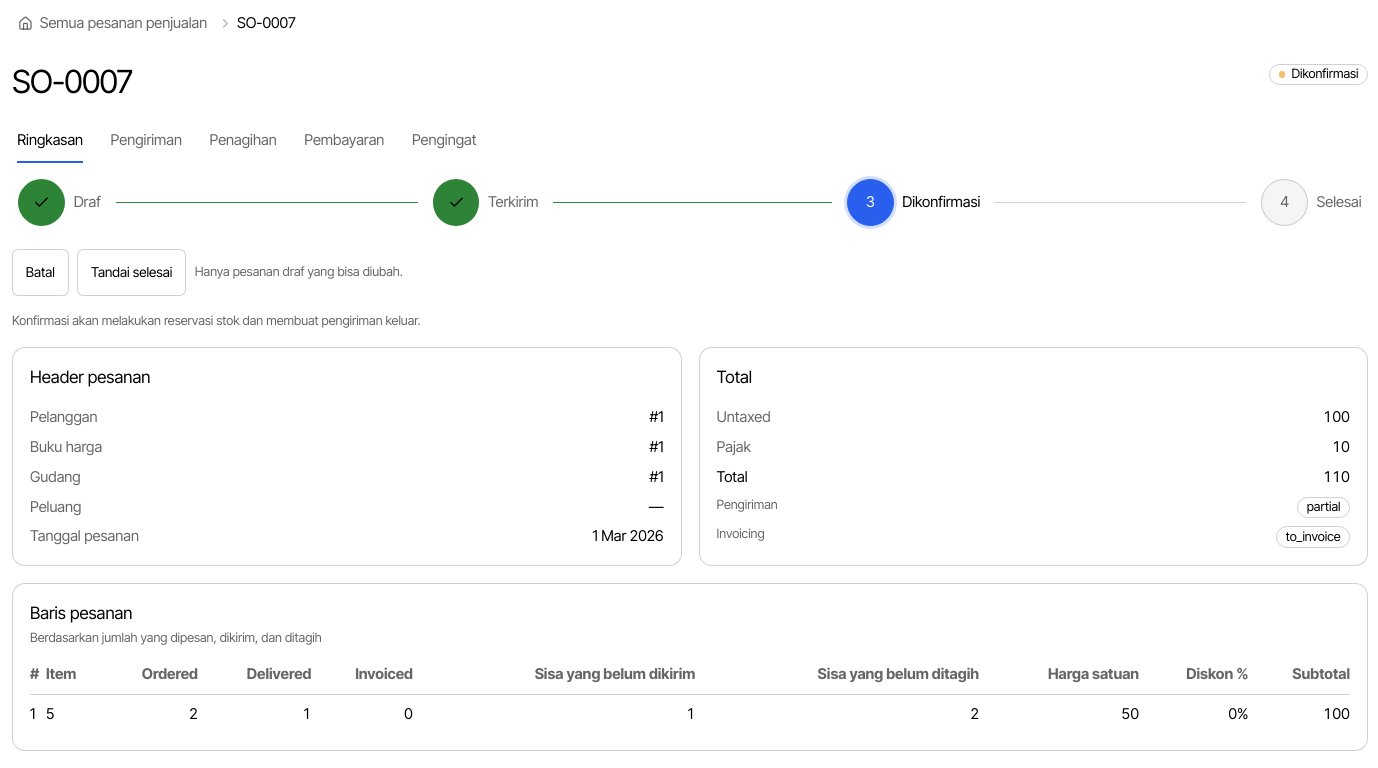
Scenario: SaleOrderDetail extra › shows the linked shipment on the delivery tab
Click the tab "Pengiriman": (146, 141) [110,117,183,164]
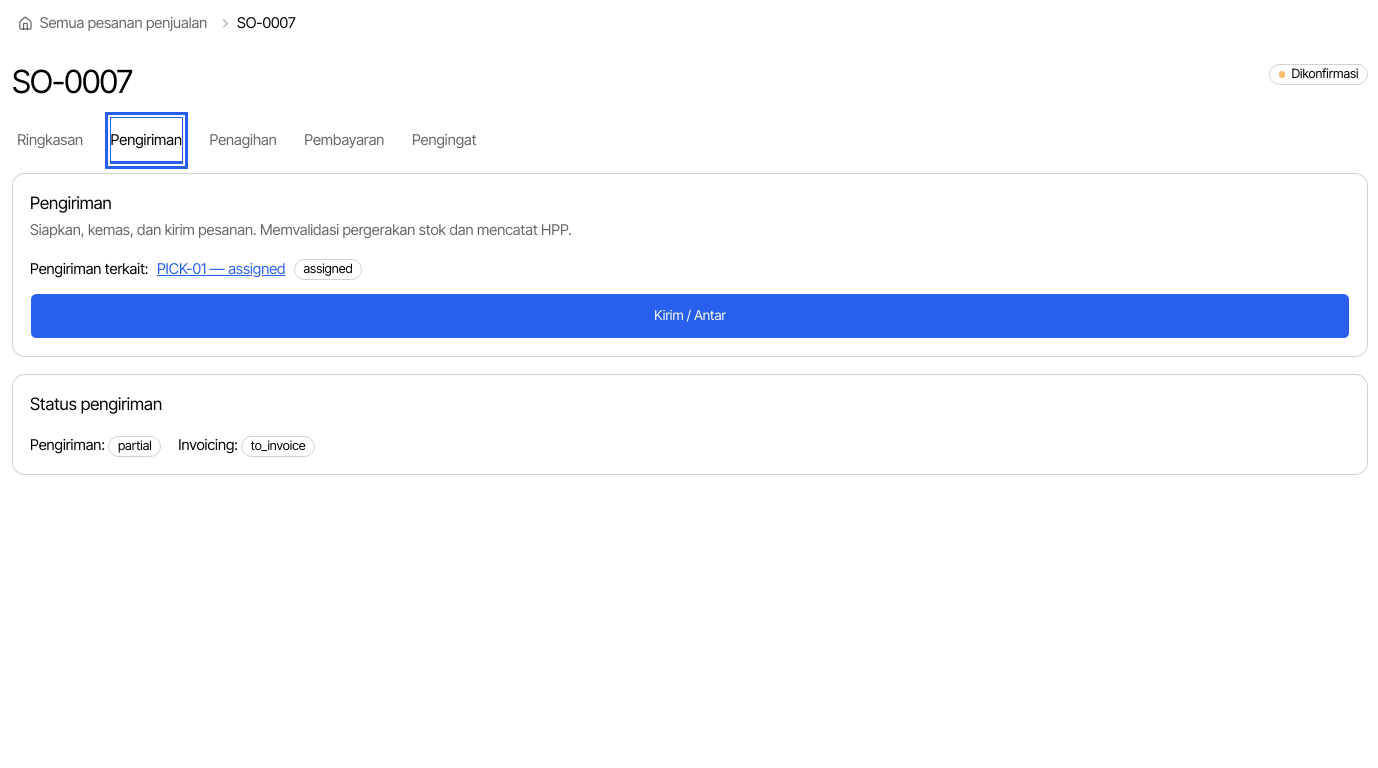
Now the link "PICK-01 — assigned" is shown, box [157,259,286,280]
